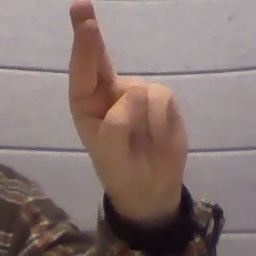R: (60, 1, 191, 192)
